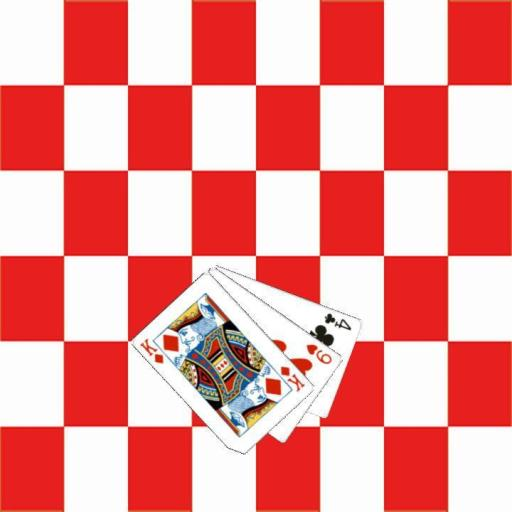card-corner: (136, 335, 166, 365), (278, 363, 306, 393), (303, 340, 333, 366), (322, 310, 354, 331)
